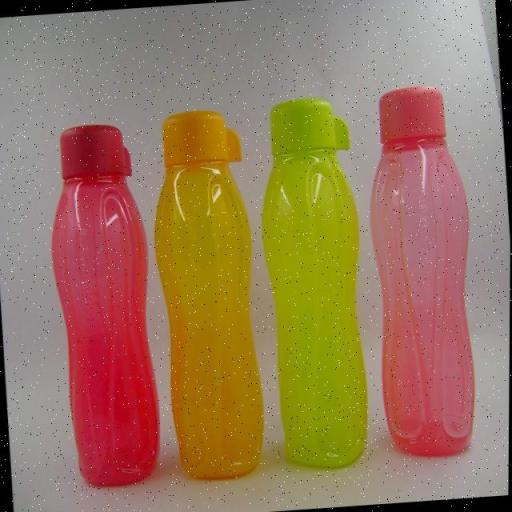plastic: (250, 93, 376, 475), (359, 84, 486, 460), (41, 118, 167, 492), (146, 108, 269, 477)
